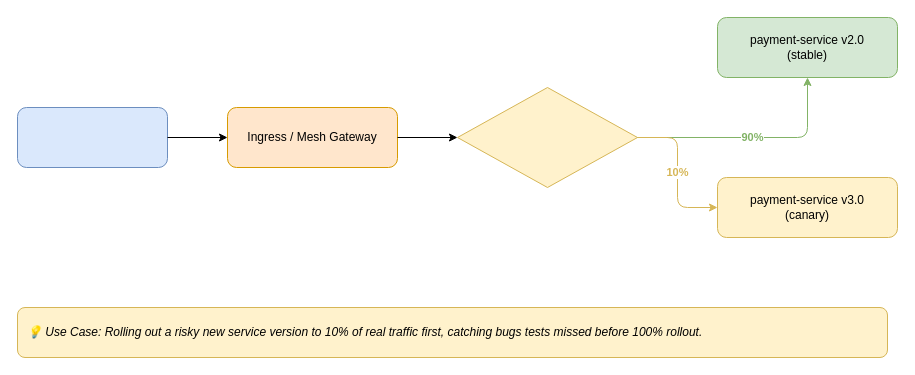
Image size: 915x375. Some labels were removed from this diagram. The box of each missing label's shape, as (x1, y1, x2, y2) in pixels:
User Requests: (16, 106, 168, 168)
VirtualService (routing rule): (456, 86, 638, 188)
